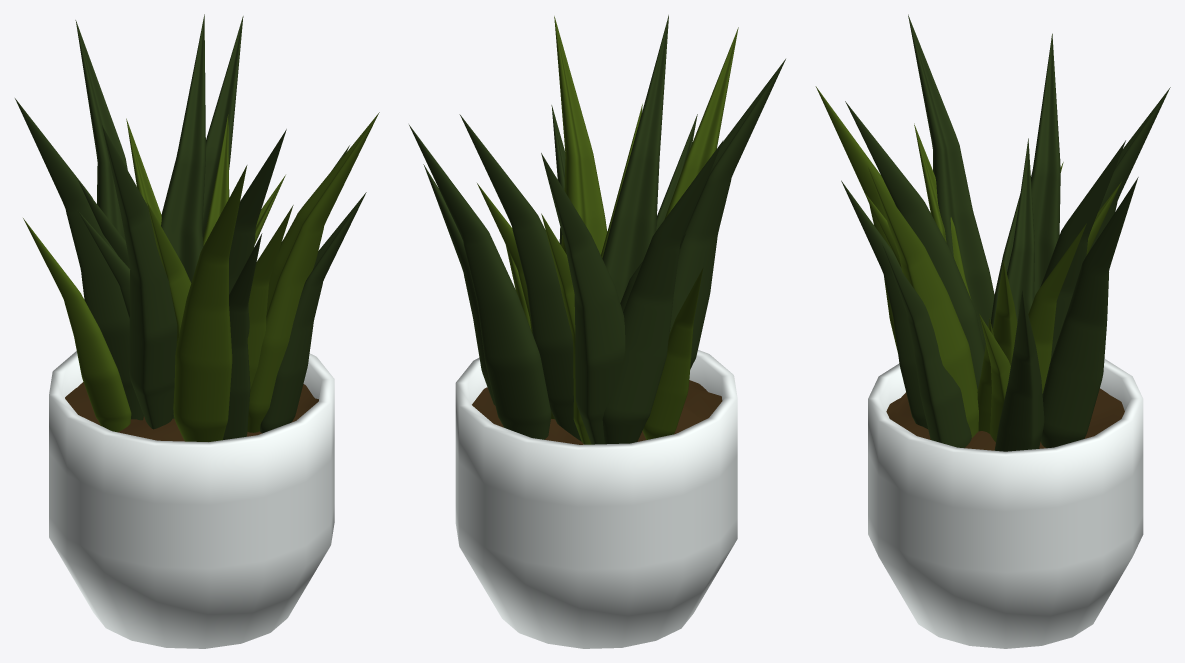
The model's file is plant.glb.
3 renders of one model, left to right at view 1: azimuth 30°, elevation 25°; view 2: azimuth 150°, elevation 25°; view 3: azimuth 270°, elevation 25°, orthographic. The views are drawn at different scales.
Visible parts, largest first — view 1: Vert_44, NurbsPath.030_32, NurbsPath.036_38, NurbsPath.033_35, NurbsPath.031_33, NurbsPath.029_31, NurbsPath.034_36, NurbsPath.024_26, NurbsPath.022_24, NurbsPath.040_42, NurbsPath.035_37, NurbsPath.039_41 (+7 smaller); view 2: Vert_44, NurbsPath.035_37, NurbsPath.031_33, NurbsPath.040_42, NurbsPath.029_31, NurbsPath.039_41, NurbsPath.036_38, NurbsPath.033_35, NurbsPath.034_36, NurbsPath.030_32, Circle.003_1, NurbsPath.028_30 (+4 smaller); view 3: Vert_44, NurbsPath.035_37, NurbsPath.036_38, NurbsPath.033_35, NurbsPath.039_41, NurbsPath.024_26, NurbsPath.031_33, NurbsPath.032_34, NurbsPath.029_31, NurbsPath.022_24, NurbsPath.023_25, NurbsPath.021_23 (+8 smaller).
Part boxes in pixels (x1,y1,x2,y2): Vert_44: [49, 351, 334, 648]; NurbsPath.030_32: [174, 165, 247, 441]; NurbsPath.036_38: [102, 125, 177, 429]; NurbsPath.033_35: [247, 112, 379, 432]; NurbsPath.031_33: [15, 98, 143, 420]; NurbsPath.029_31: [161, 14, 205, 282]; NurbsPath.034_36: [23, 218, 131, 432]; NurbsPath.024_26: [260, 192, 366, 433]; NurbsPath.022_24: [223, 233, 262, 439]; NurbsPath.040_42: [75, 20, 127, 240]; NurbsPath.035_37: [202, 16, 243, 237]; NurbsPath.039_41: [229, 129, 286, 337]; Vert_44: [455, 350, 737, 648]; NurbsPath.035_37: [409, 125, 551, 439]; NurbsPath.031_33: [602, 140, 723, 444]; NurbsPath.040_42: [541, 153, 625, 444]; NurbsPath.029_31: [459, 114, 581, 441]; NurbsPath.039_41: [602, 15, 668, 302]; NurbsPath.036_38: [669, 59, 785, 368]; NurbsPath.033_35: [554, 16, 607, 254]; NurbsPath.034_36: [642, 268, 703, 439]; NurbsPath.030_32: [664, 27, 738, 219]; Circle.003_1: [472, 380, 722, 444]; NurbsPath.028_30: [541, 213, 591, 444]; Vert_44: [868, 358, 1143, 648]; NurbsPath.035_37: [1040, 177, 1138, 448]; NurbsPath.036_38: [908, 14, 994, 350]; NurbsPath.033_35: [868, 167, 978, 437]; NurbsPath.039_41: [845, 101, 984, 389]; NurbsPath.024_26: [882, 244, 971, 448]; NurbsPath.031_33: [1031, 33, 1060, 297]; NurbsPath.032_34: [994, 290, 1044, 451]; NurbsPath.029_31: [1040, 140, 1125, 358]; NurbsPath.022_24: [841, 180, 927, 428]; NurbsPath.023_25: [1007, 138, 1034, 322]; NurbsPath.021_23: [1028, 223, 1086, 393].
Bounding box in the file's own units: 1.22 × 2.03 × 1.23.
